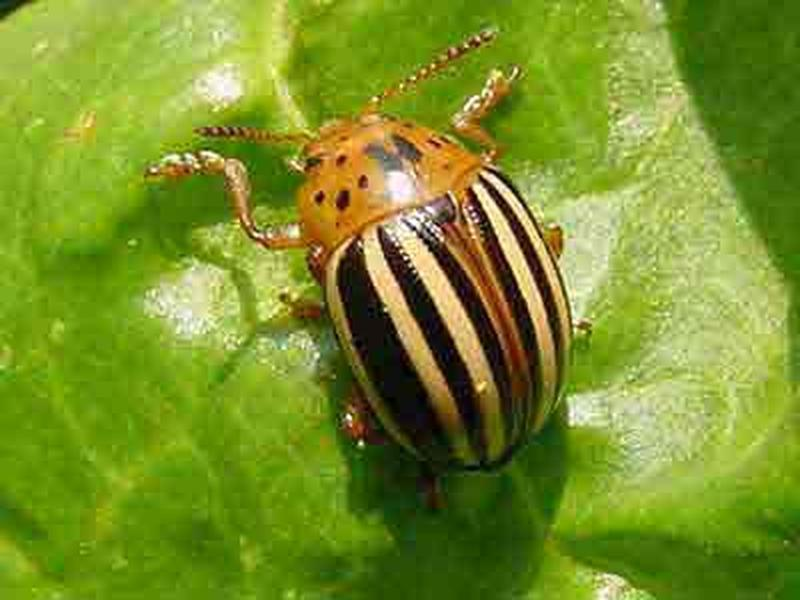hrosc: (244, 88, 598, 486)
